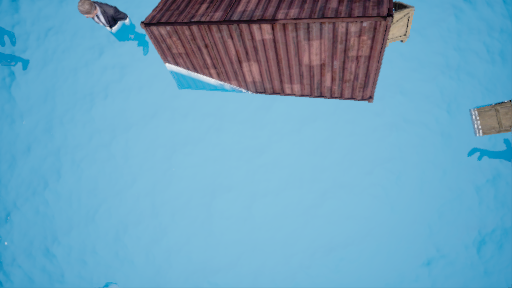person: (68, 3, 158, 60)
